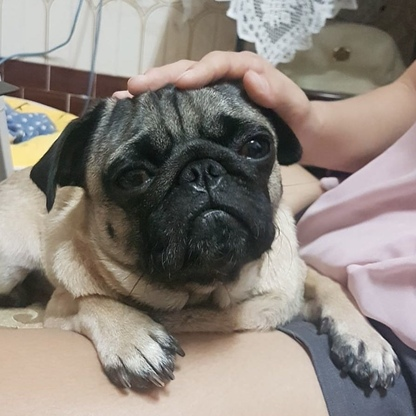Pug: (1, 68, 406, 398)
